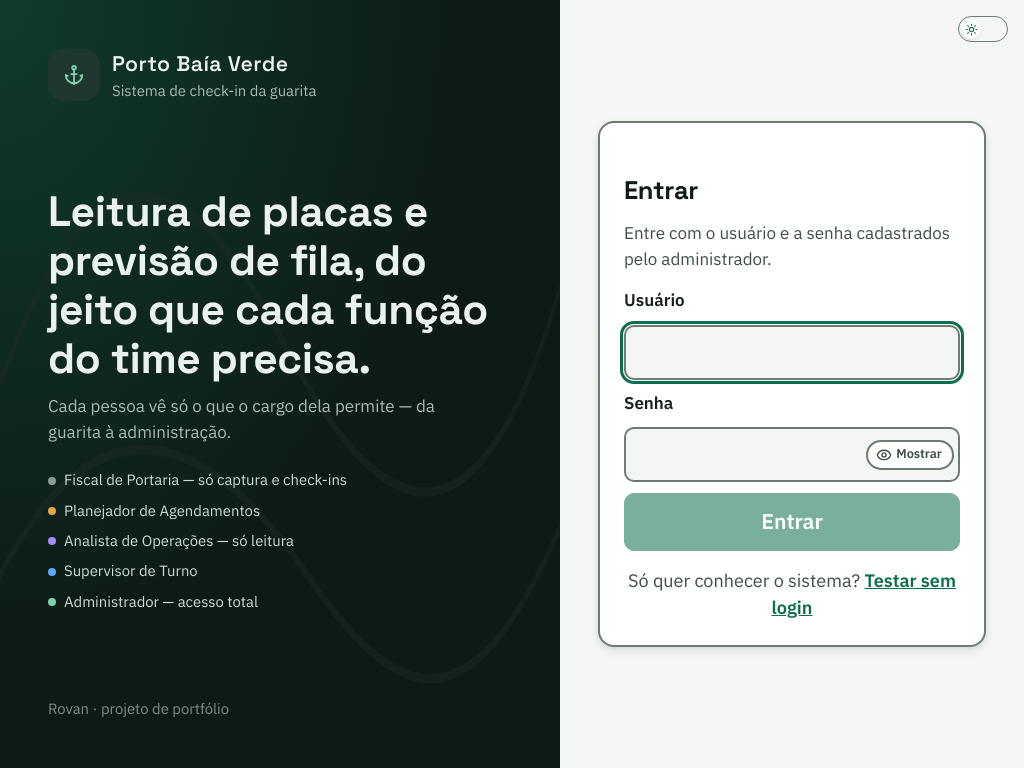
Scenario: LoginPage › mostra o erro do backend e libera o formulário
This screenshot has width=1024, height=768.
Type "maria" into the field labelled "Usuário". click: coordinates (792, 352)
box: [624,325,960,380]
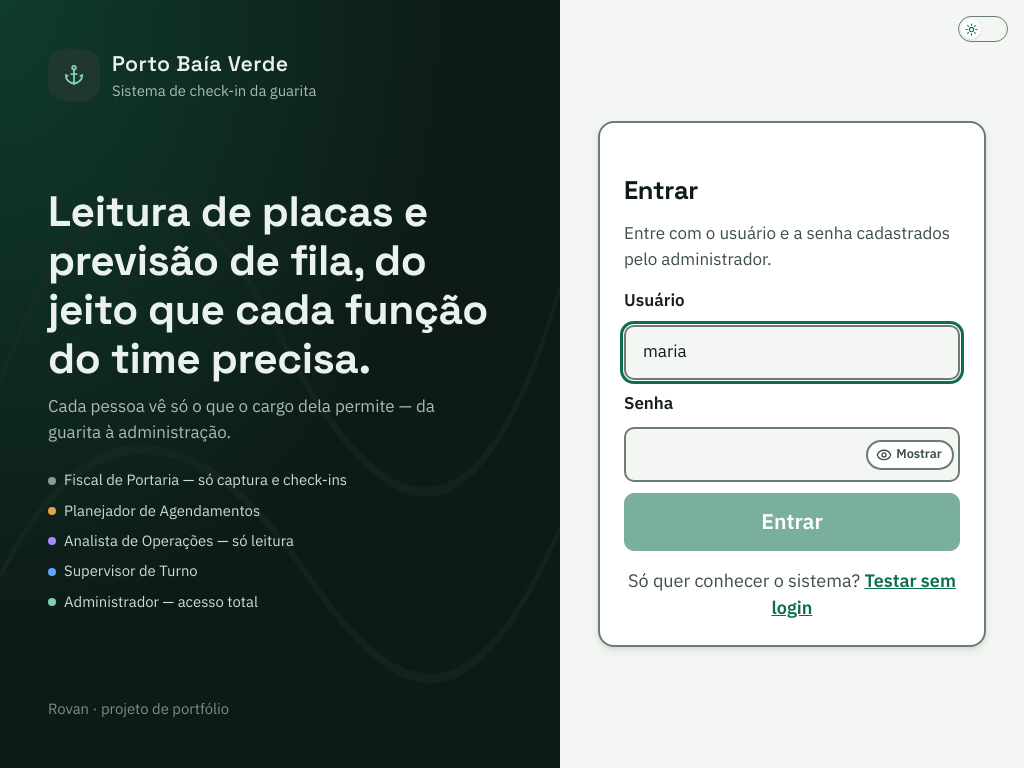
Type "s3nha-forte" into the password field labelled "Senha". click: coordinates (792, 455)
box: [624,427,960,482]
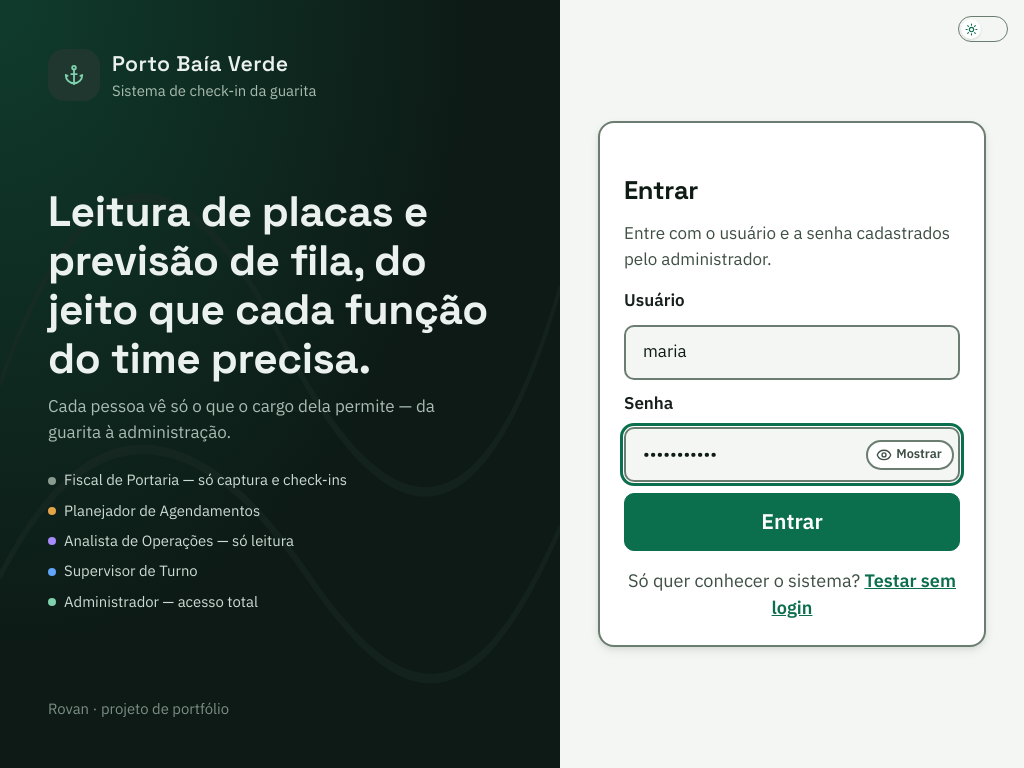
Click the button "Entrar". click: coordinates (792, 522)
box: [624,493,960,551]
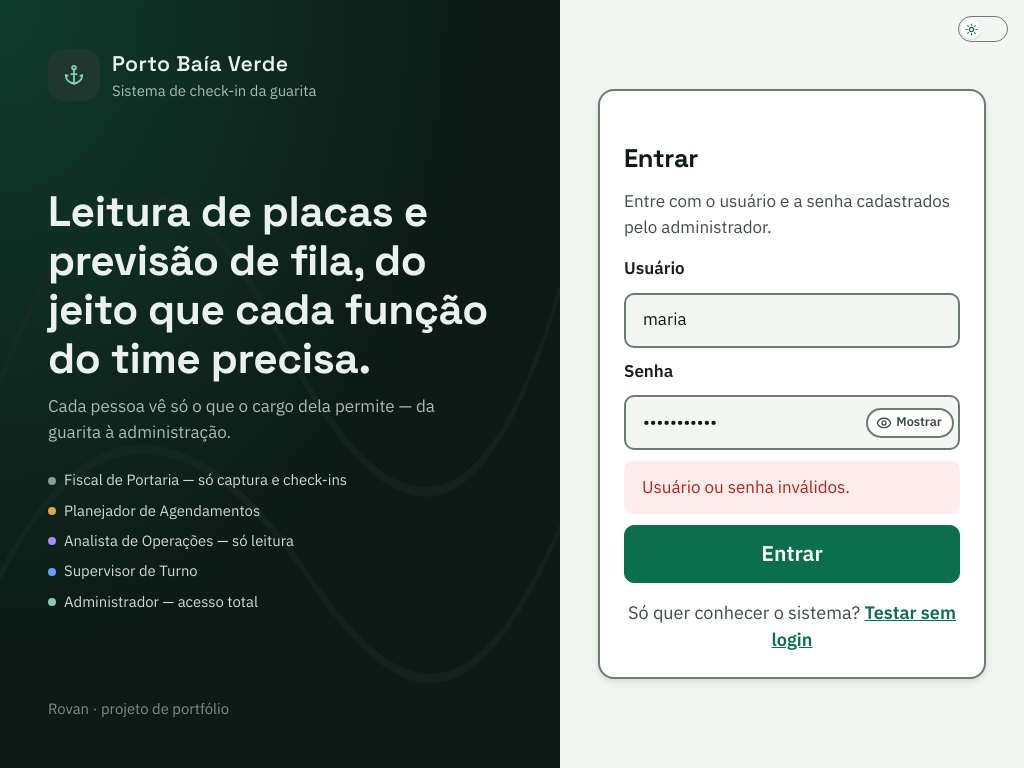
Result: the button "Entrar" is enabled at [624,525,960,583]
Result: the message reads "Usuário ou senha inválidos." at [642,476,850,498]
